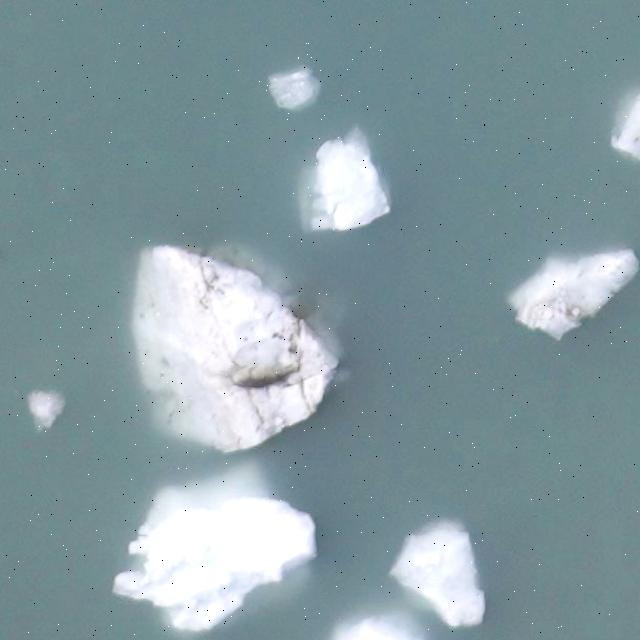seal: (225, 362, 298, 390)
